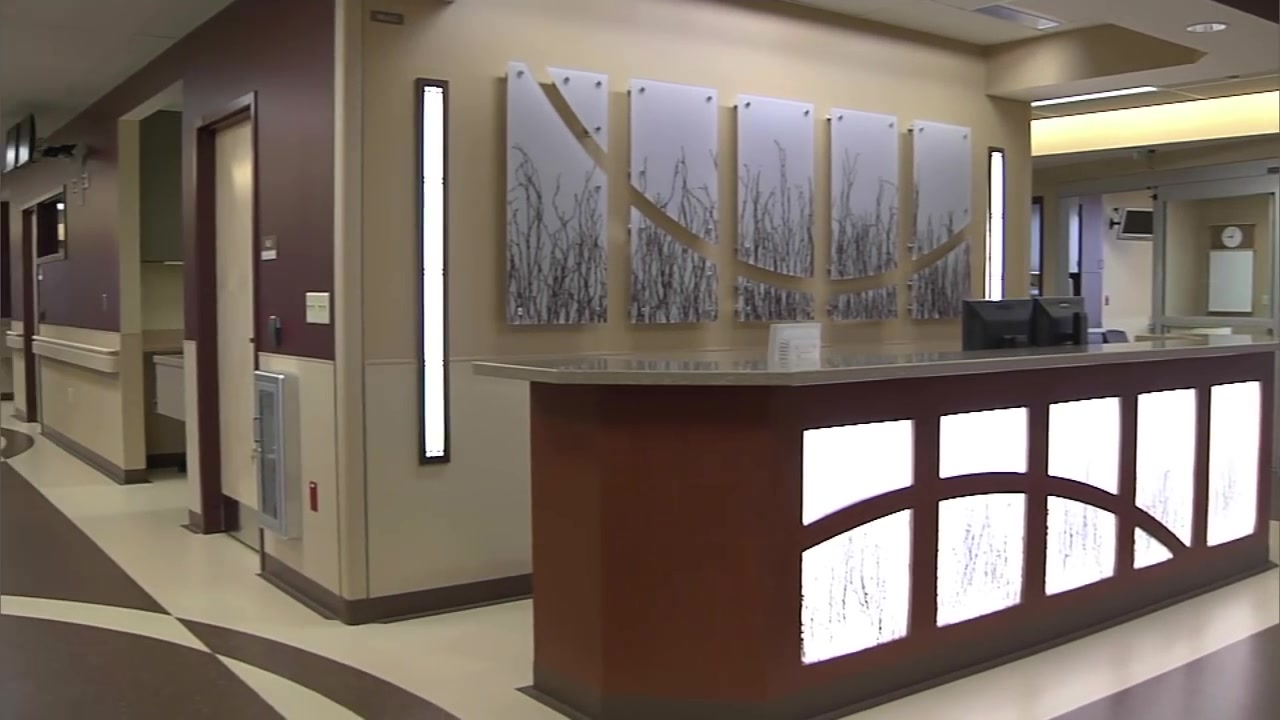TV: (1117, 207, 1155, 241), (16, 113, 37, 169), (1, 123, 16, 174)
computer: (961, 299, 1033, 351), (767, 319, 829, 375), (1030, 294, 1087, 346)
counter: (459, 329, 1280, 714)
countertop: (471, 335, 1280, 386), (152, 349, 194, 363)
hallway_assist_bar: (31, 339, 118, 374), (4, 332, 26, 348)
handle: (267, 314, 282, 351), (251, 413, 261, 442)
light_switch: (304, 292, 330, 324)
